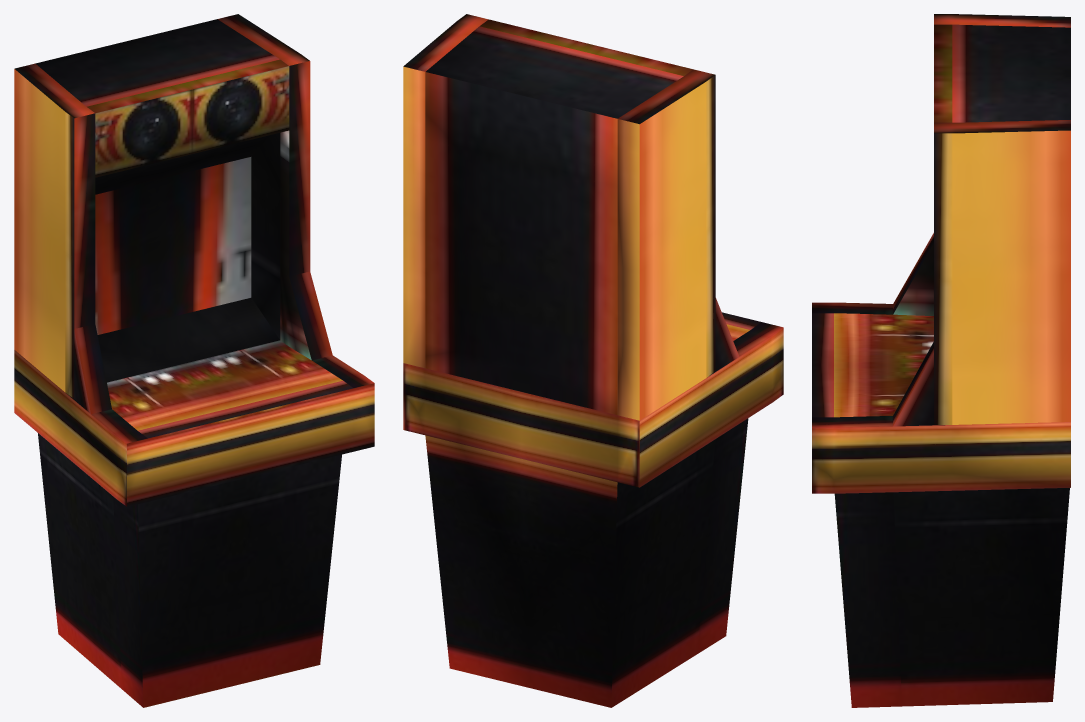
Rendered from Arcade1.fbx.
3 views of the same model, side by side, from view 1: azimuth 30°, elevation 25°; view 2: azimuth 150°, elevation 25°; view 3: azimuth 270°, elevation 25° (orthographic). The views are drawn at different scales.
Parts seen in each view (by area): view 1: Arcade; view 2: Arcade; view 3: Arcade.
Part boxes in pixels (x1=…): Arcade: x1=14, y1=14, x2=374, y2=707; Arcade: x1=403, y1=14, x2=783, y2=707; Arcade: x1=812, y1=14, x2=1070, y2=707.
Bounding box in the file's own units: 332 × 728 × 289.
Materials: 1 (1 with a texture image).
